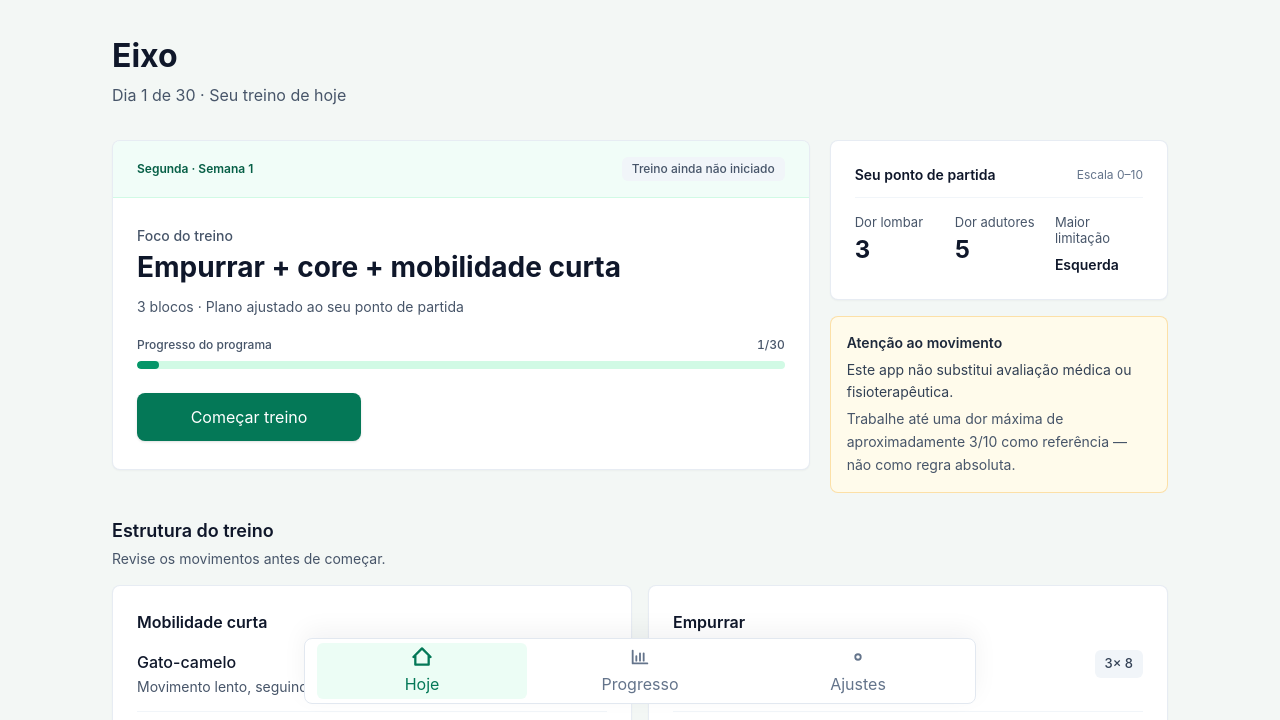
Test: App — gate por estado › permanece navegável com preferência por movimento reduzido
Click the button "Ajustes": (858, 671) [749,639,967,703]
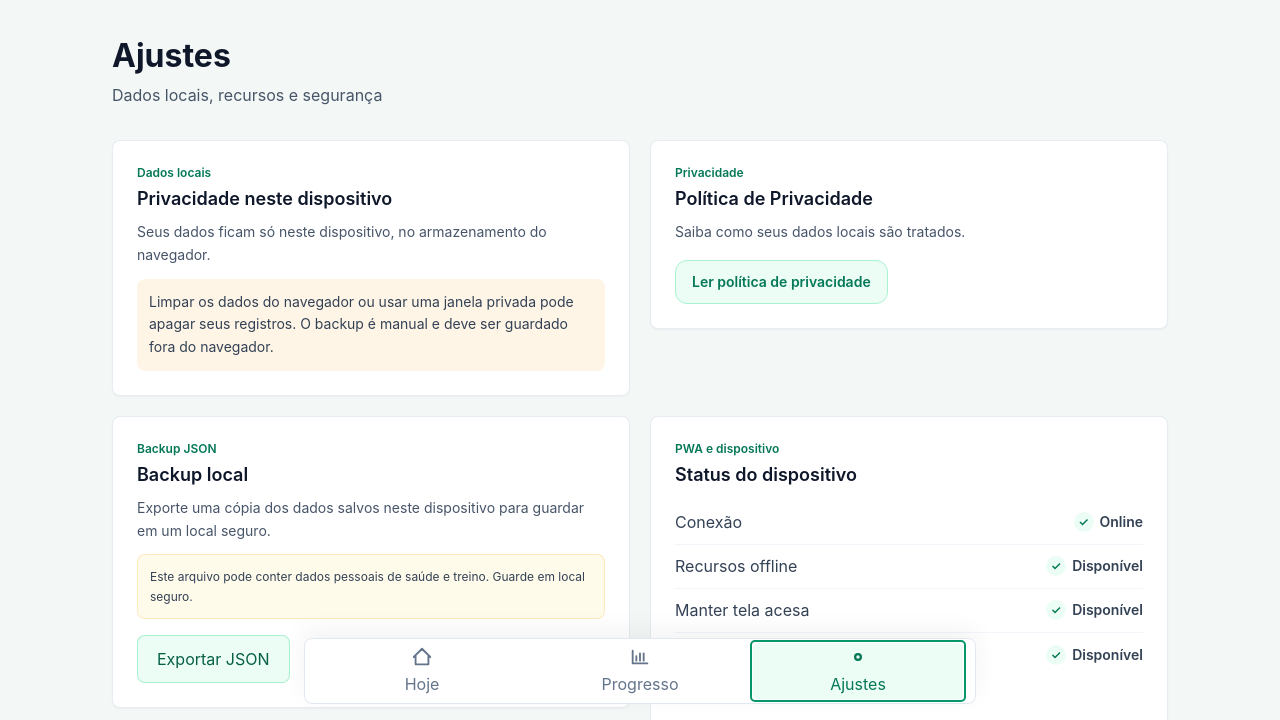
Check: the heading "Ajustes" is shown, box [112,36,231,75]
